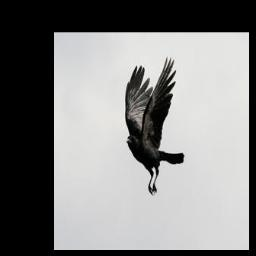Crow: (124, 55, 185, 198)
